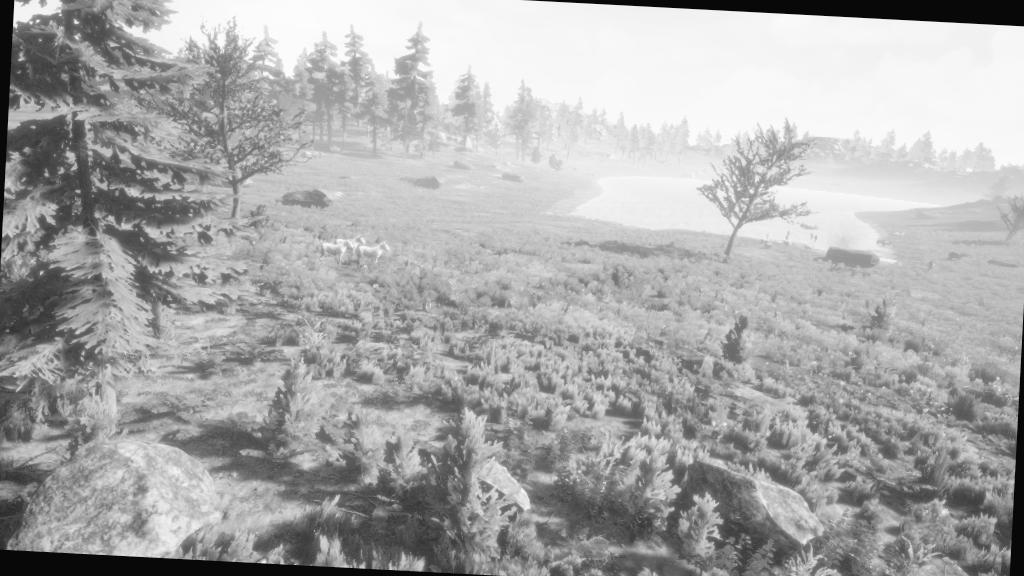zebra: (356, 234, 392, 276), (319, 238, 357, 264)
